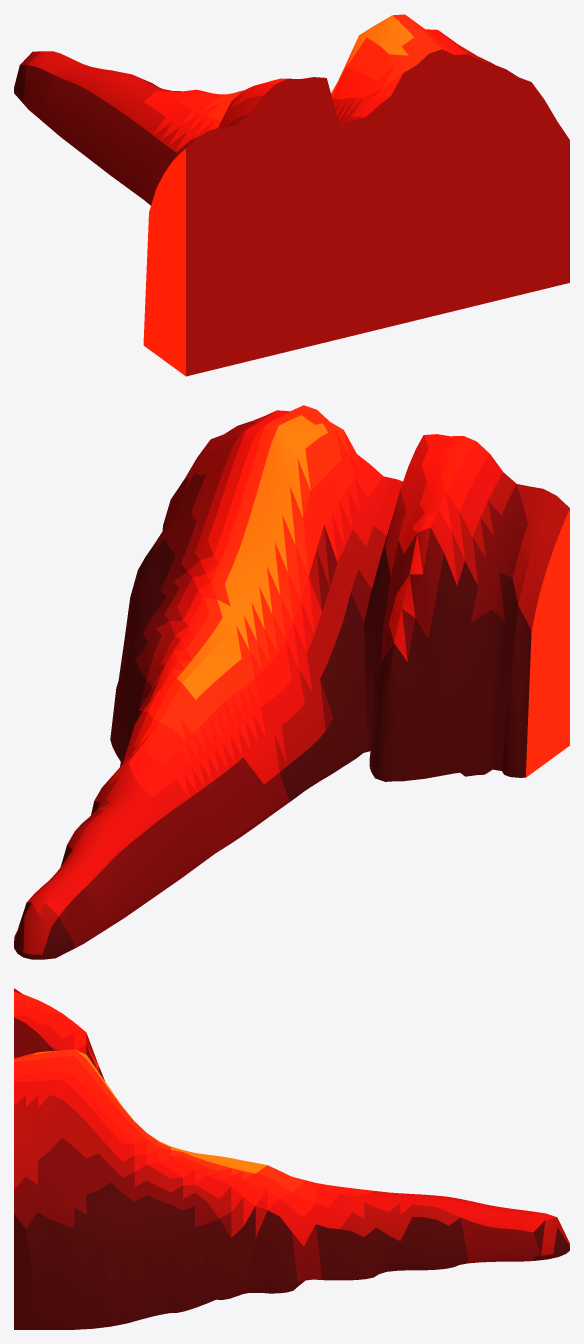
File: core_fire_23.glb
The picture shows the model from 3 angles, top to bottom: view 1: azimuth 30°, elevation 25°; view 2: azimuth 150°, elevation 25°; view 3: azimuth 270°, elevation 25°; orthographic projection. The views are drawn at different scales.
Parts seen in each view (by area): view 1: core_fire_23_fire; view 2: core_fire_23_fire; view 3: core_fire_23_fire.
Part boxes in pixels (left/top/right/bottom): core_fire_23_fire: left=14, top=14, right=569, bottom=376; core_fire_23_fire: left=14, top=405, right=569, bottom=959; core_fire_23_fire: left=14, top=988, right=569, bottom=1329.
Size of the model in its own units: 18 by 12.68 by 27.62.
